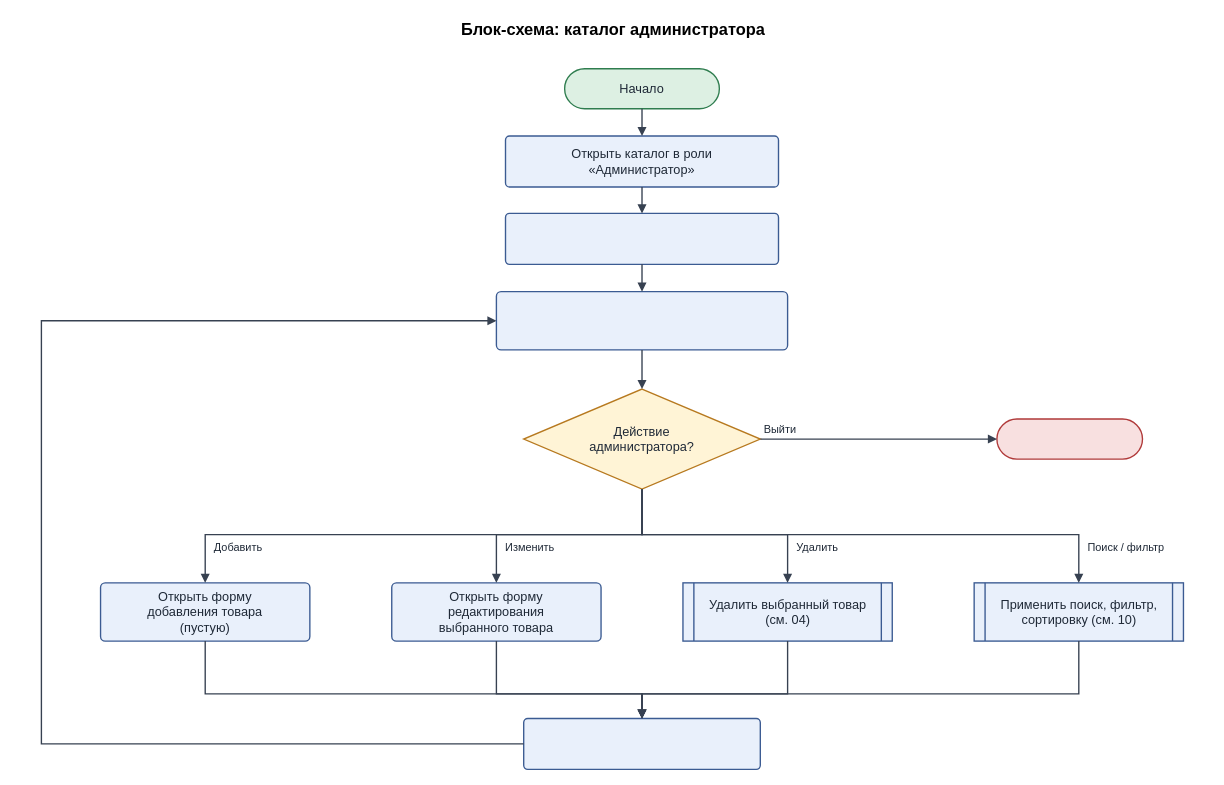
The diagram is 1224 pixels wide and 785 high, and some of its shapes have lost their labels. Here are the shapes that lost their labels. From the top down, the centre of each, then its label:
At pixel 641 238: "Загрузить список товаров из БД".
At pixel 641 320: "Показать каталог и кнопки «Добавить», «Изменить», «Удалить»".
At pixel 1069 438: "Окно входа".
At pixel 642 743: "Обновить список товаров".
